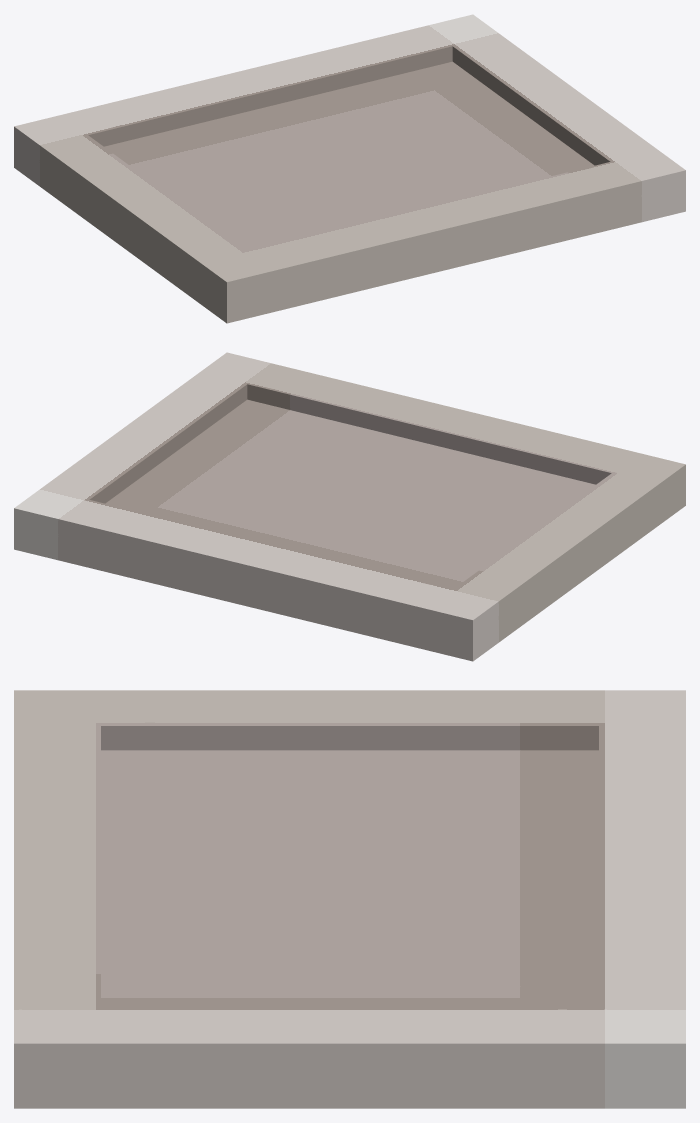
File: kitchen_item_863x01.gltf
The picture shows the model from 3 angles, top to bottom: view 1: azimuth 30°, elevation 25°; view 2: azimuth 150°, elevation 25°; view 3: azimuth 270°, elevation 25°; orthographic projection. The views are drawn at different scales.
Parts seen in each view (by area): view 1: kitchen_item_863x01; view 2: kitchen_item_863x01; view 3: kitchen_item_863x01.
Boxes of the visible parts, <box> form: kitchen_item_863x01: <box>14,14,685,323</box>; kitchen_item_863x01: <box>14,352,685,661</box>; kitchen_item_863x01: <box>14,690,685,1108</box>.
Size of the model in its own units: 0.8179 by 0.0703 by 0.657.
Materials: 1 (1 with a texture image).
